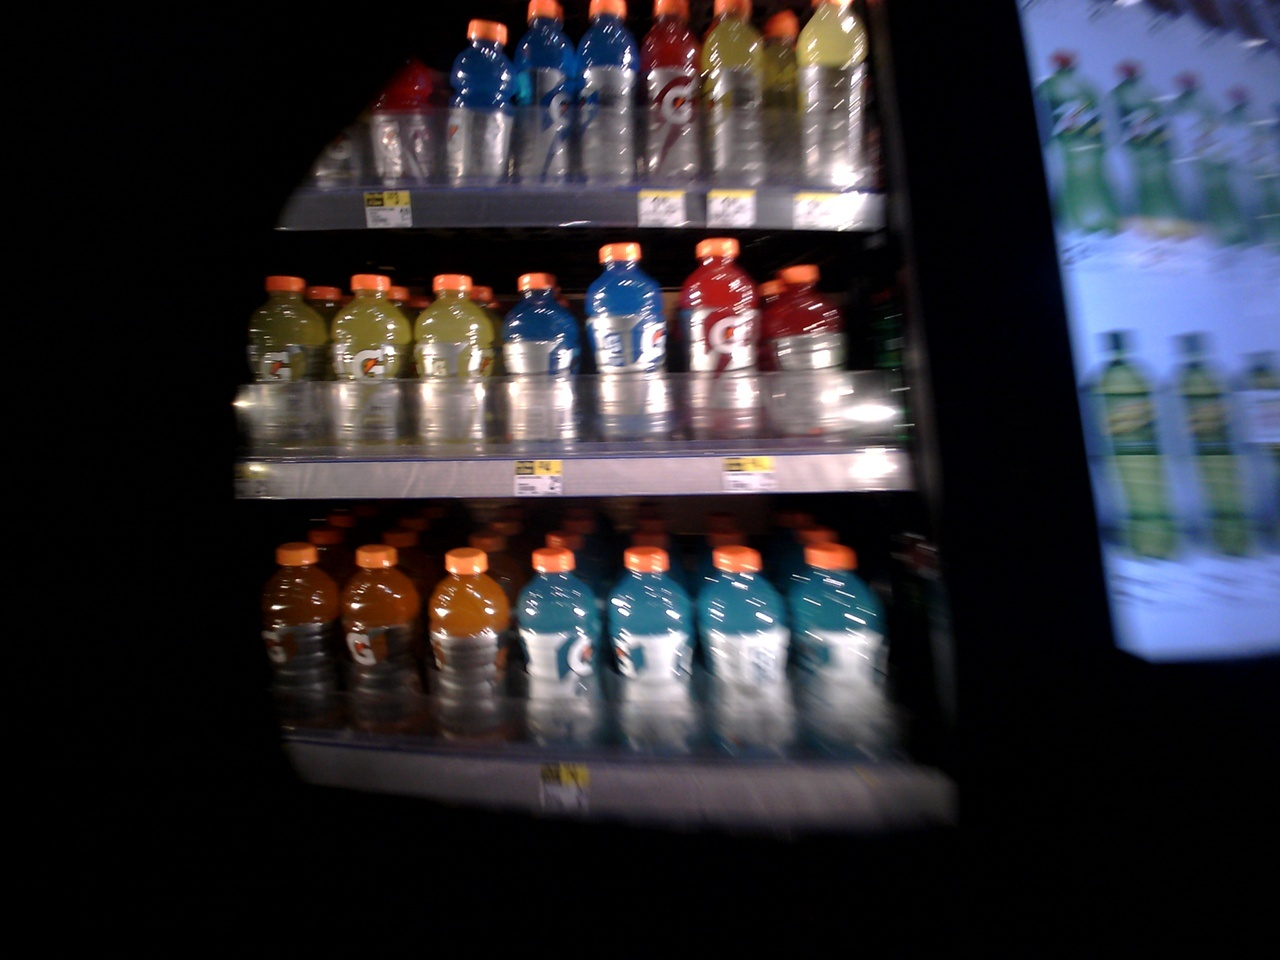shelf: (248, 500, 952, 823), (193, 239, 893, 489), (231, 1, 900, 222)
